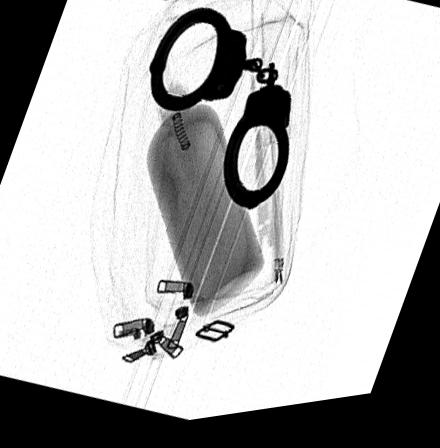HandCuffs: (146, 13, 290, 218)
